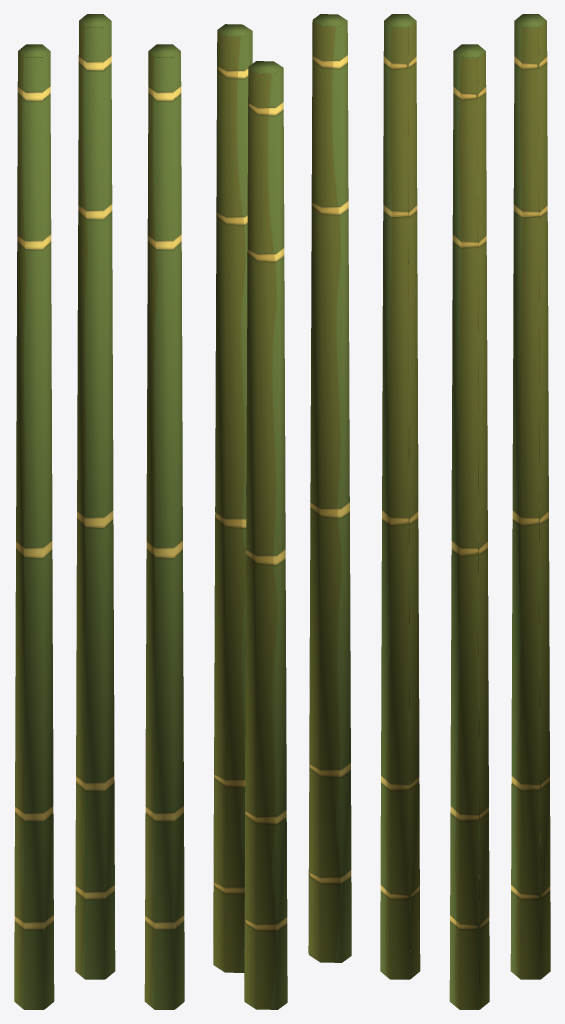
File: Bambu.fbx
The picture shows the model from 3 angles, left to right: view 1: azimuth 90°, elevation 25°; view 2: azimuth 150°, elevation 25°; view 3: azimuth 270°, elevation 25°; orthographic projection.
Parts seen in each view (by area): view 1: Circle; view 2: Circle; view 3: Circle.
Part boxes in pixels (x1,y1,x2,y2): Circle: (14, 14, 184, 1009); Circle: (213, 14, 351, 1009); Circle: (380, 14, 550, 1009).
Size of the model in its own units: 84.7 by 130 by 800.
